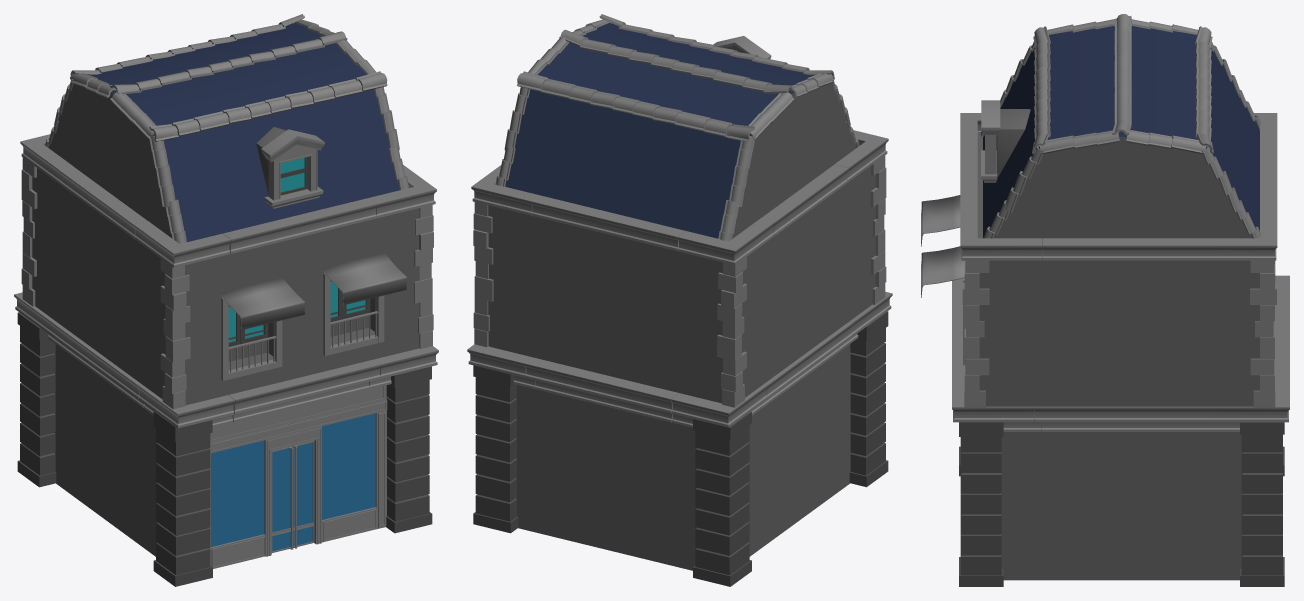
File: SM_building_shop_01.fbx
3 renders of one model, left to right at view 1: azimuth 30°, elevation 25°; view 2: azimuth 150°, elevation 25°; view 3: azimuth 270°, elevation 25°, orthographic. The views are drawn at different scales.
Parts seen in each view (by area): view 1: Box185; view 2: Box185; view 3: Box185.
Part boxes in pixels (x1,y1,x2,y2): Box185: (14,14,438,586); Box185: (467,14,892,586); Box185: (921,14,1289,586).
Bounding box in the file's own units: 281 × 448 × 330.
